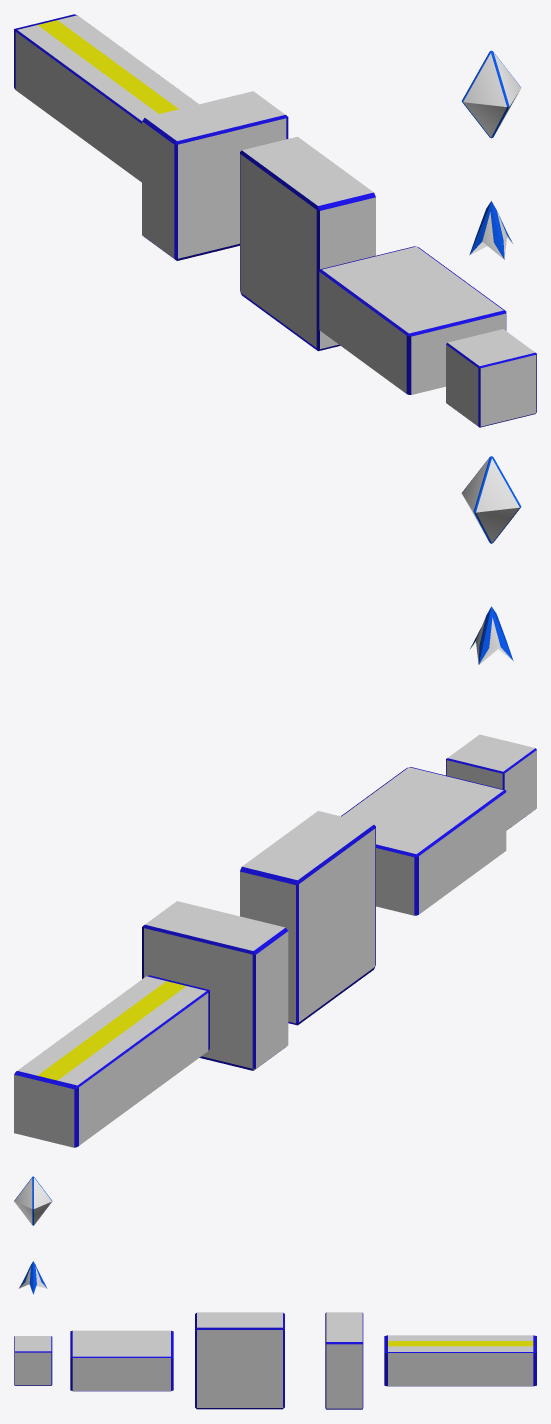
3 renders of one model, top to bottom at view 1: azimuth 30°, elevation 25°; view 2: azimuth 150°, elevation 25°; view 3: azimuth 270°, elevation 25°, orthographic. The views are drawn at different scales.
Visible parts, largest first — view 1: Cube.002, Cube.001, Cube.003, Cube.004, Cube, Cone, Cone.001; view 2: Cube.004, Cube.002, Cube.003, Cube.001, Cube, Cone, Cone.001; view 3: Cube.002, Cube.004, Cube.001, Cube.003, Cube, Cone, Cone.001.
Part boxes in pixels (left/top/right/bottom): Cube.002: left=240, top=136, right=375, bottom=351; Cube.001: left=319, top=246, right=506, bottom=394; Cube.003: left=142, top=91, right=288, bottom=260; Cube.004: left=14, top=14, right=198, bottom=182; Cube: left=446, top=329, right=536, bottom=427; Cone: left=461, top=50, right=521, bottom=138; Cone.001: left=469, top=201, right=512, bottom=259; Cube.004: left=14, top=975, right=209, bottom=1147; Cube.002: left=240, top=811, right=375, bottom=1025; Cube.003: left=142, top=901, right=288, bottom=1070; Cube.001: left=341, top=767, right=506, bottom=915; Cube: left=446, top=734, right=536, bottom=830; Cone: left=461, top=456, right=521, bottom=543; Cone.001: left=470, top=606, right=513, bottom=664; Cube.002: left=195, top=1312, right=284, bottom=1409; Cube.004: left=384, top=1335, right=536, bottom=1386; Cube.001: left=70, top=1330, right=173, bottom=1391; Cube.003: left=325, top=1312, right=363, bottom=1409; Cube: left=14, top=1336, right=52, bottom=1385; Cone: left=14, top=1176, right=52, bottom=1225; Cone.001: left=19, top=1261, right=47, bottom=1294.
Bounding box in the file's own units: 388 × 1303 × 2741.
